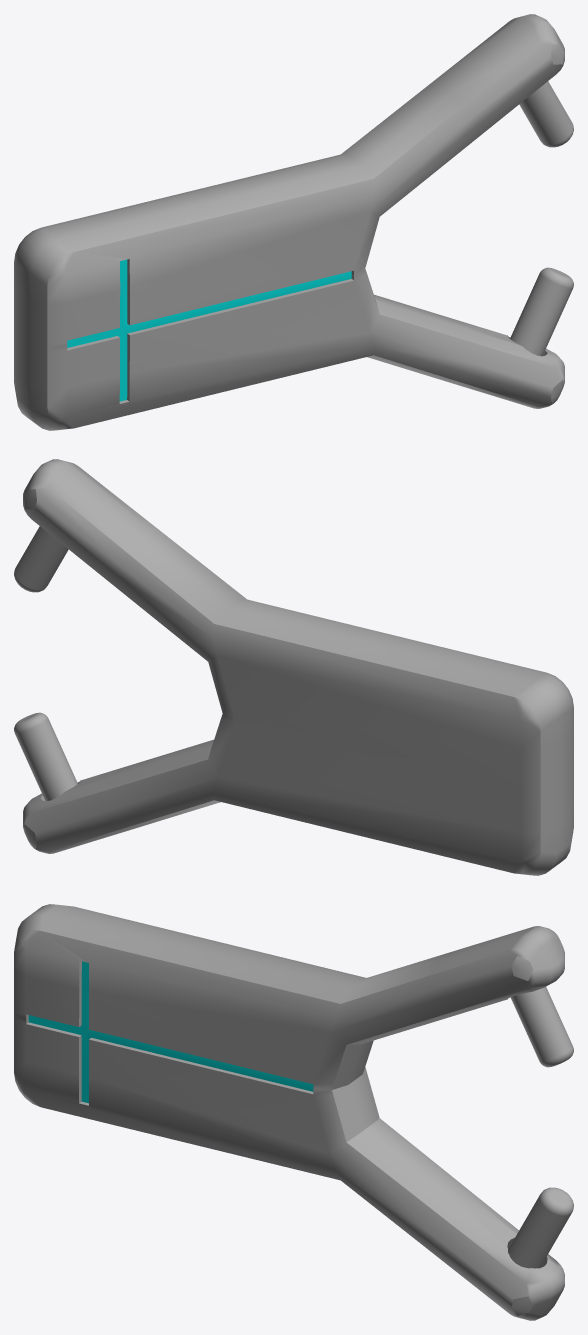
File: Plasma Torch.fbx
3 renders of one model, top to bottom at view 1: azimuth 30°, elevation 25°; view 2: azimuth 150°, elevation 25°; view 3: azimuth 330°, elevation 25°, orthographic.
Visible parts, largest first — view 1: pCube3; view 2: pCube3; view 3: pCube3.
Boxes of the visible parts, x1,y1,x2,y2 form: pCube3: (14,14,573,430); pCube3: (14,459,573,875); pCube3: (14,904,573,1320).
Bounding box in the file's own units: 0.4626 × 0.3124 × 0.0599.
